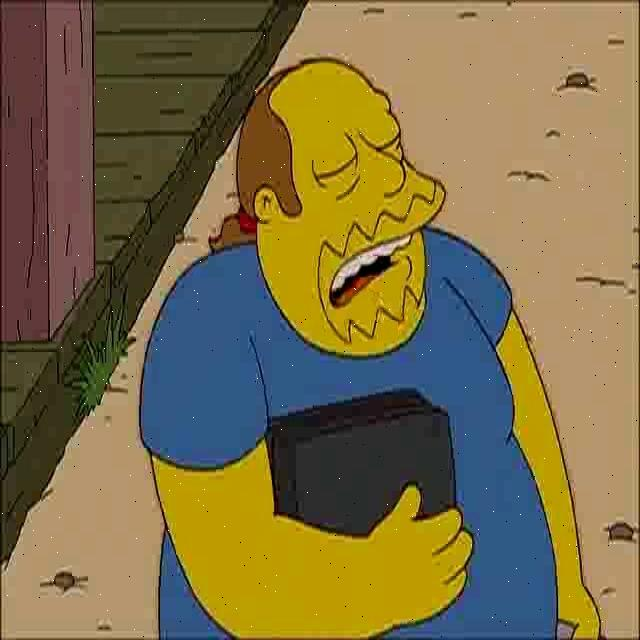Comic Book Guy: (231, 53, 451, 363)
